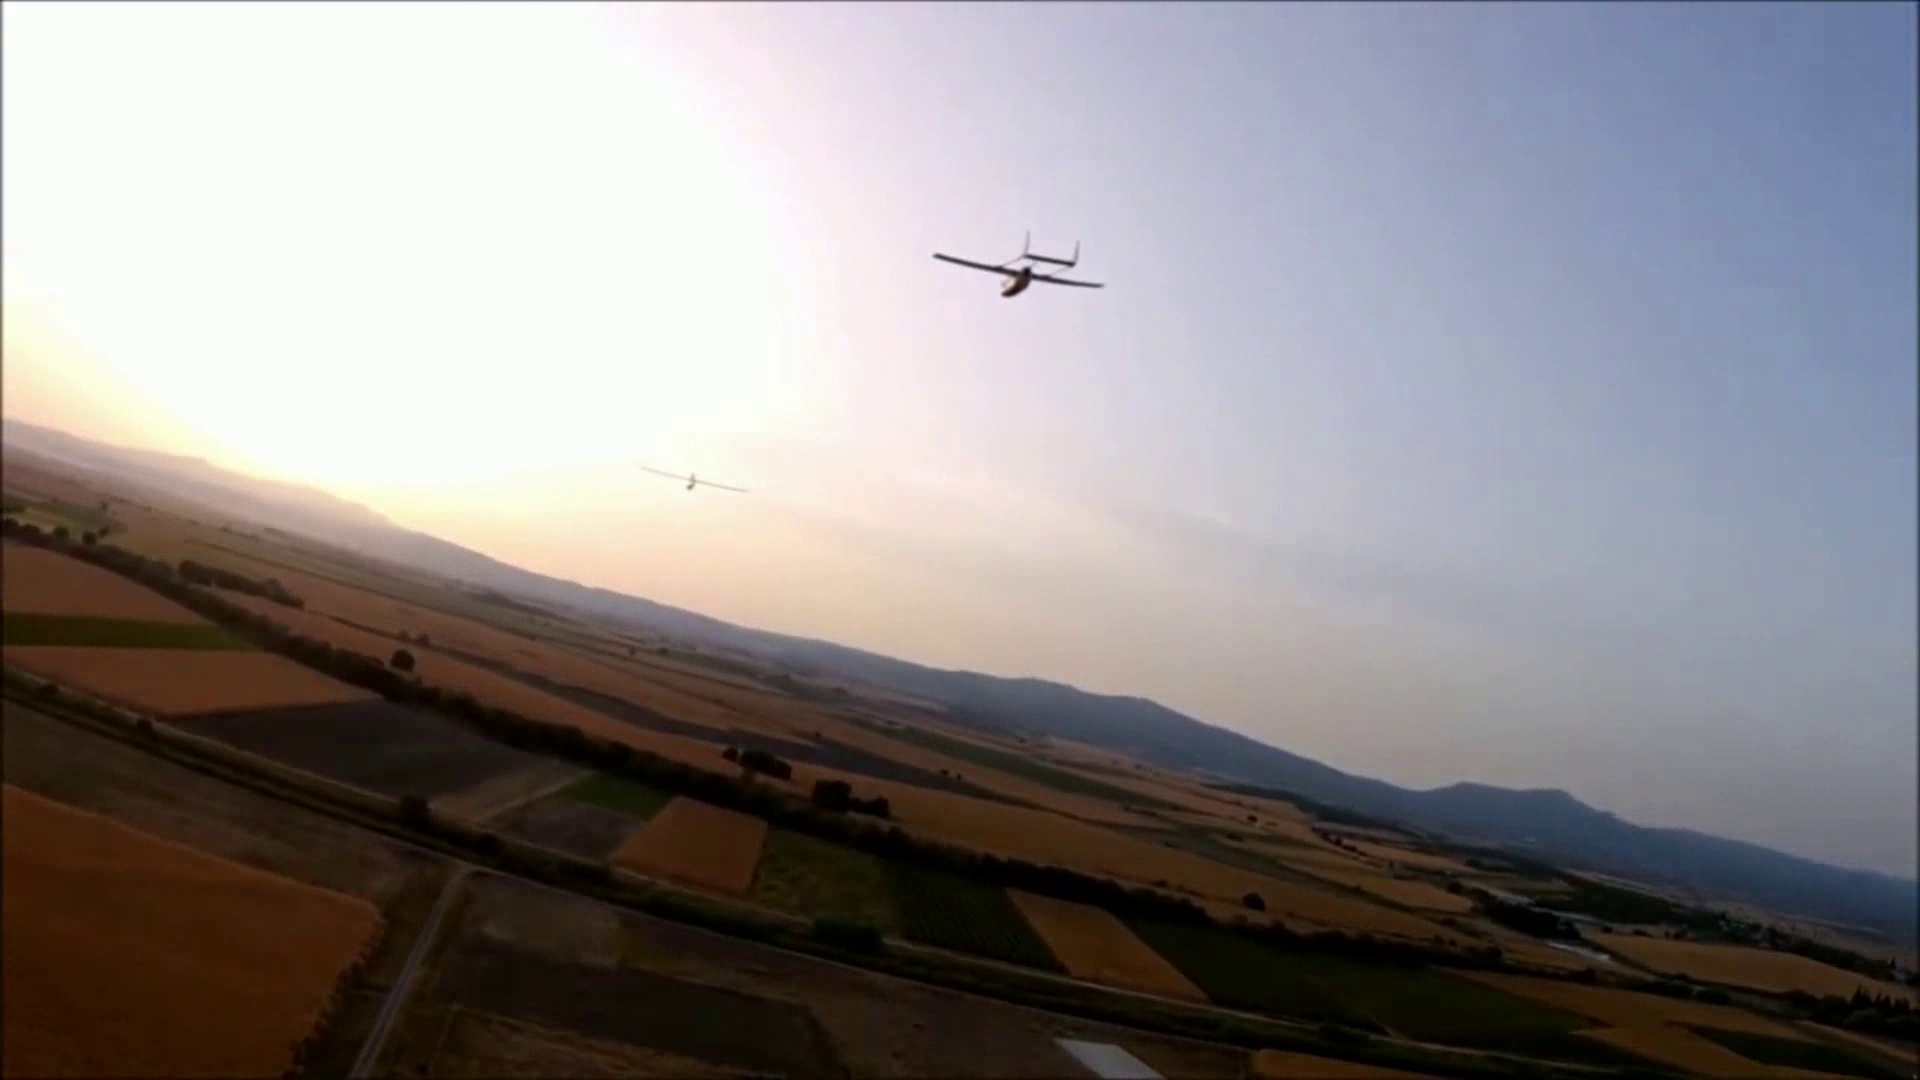airplane: (928, 229, 1108, 297)
